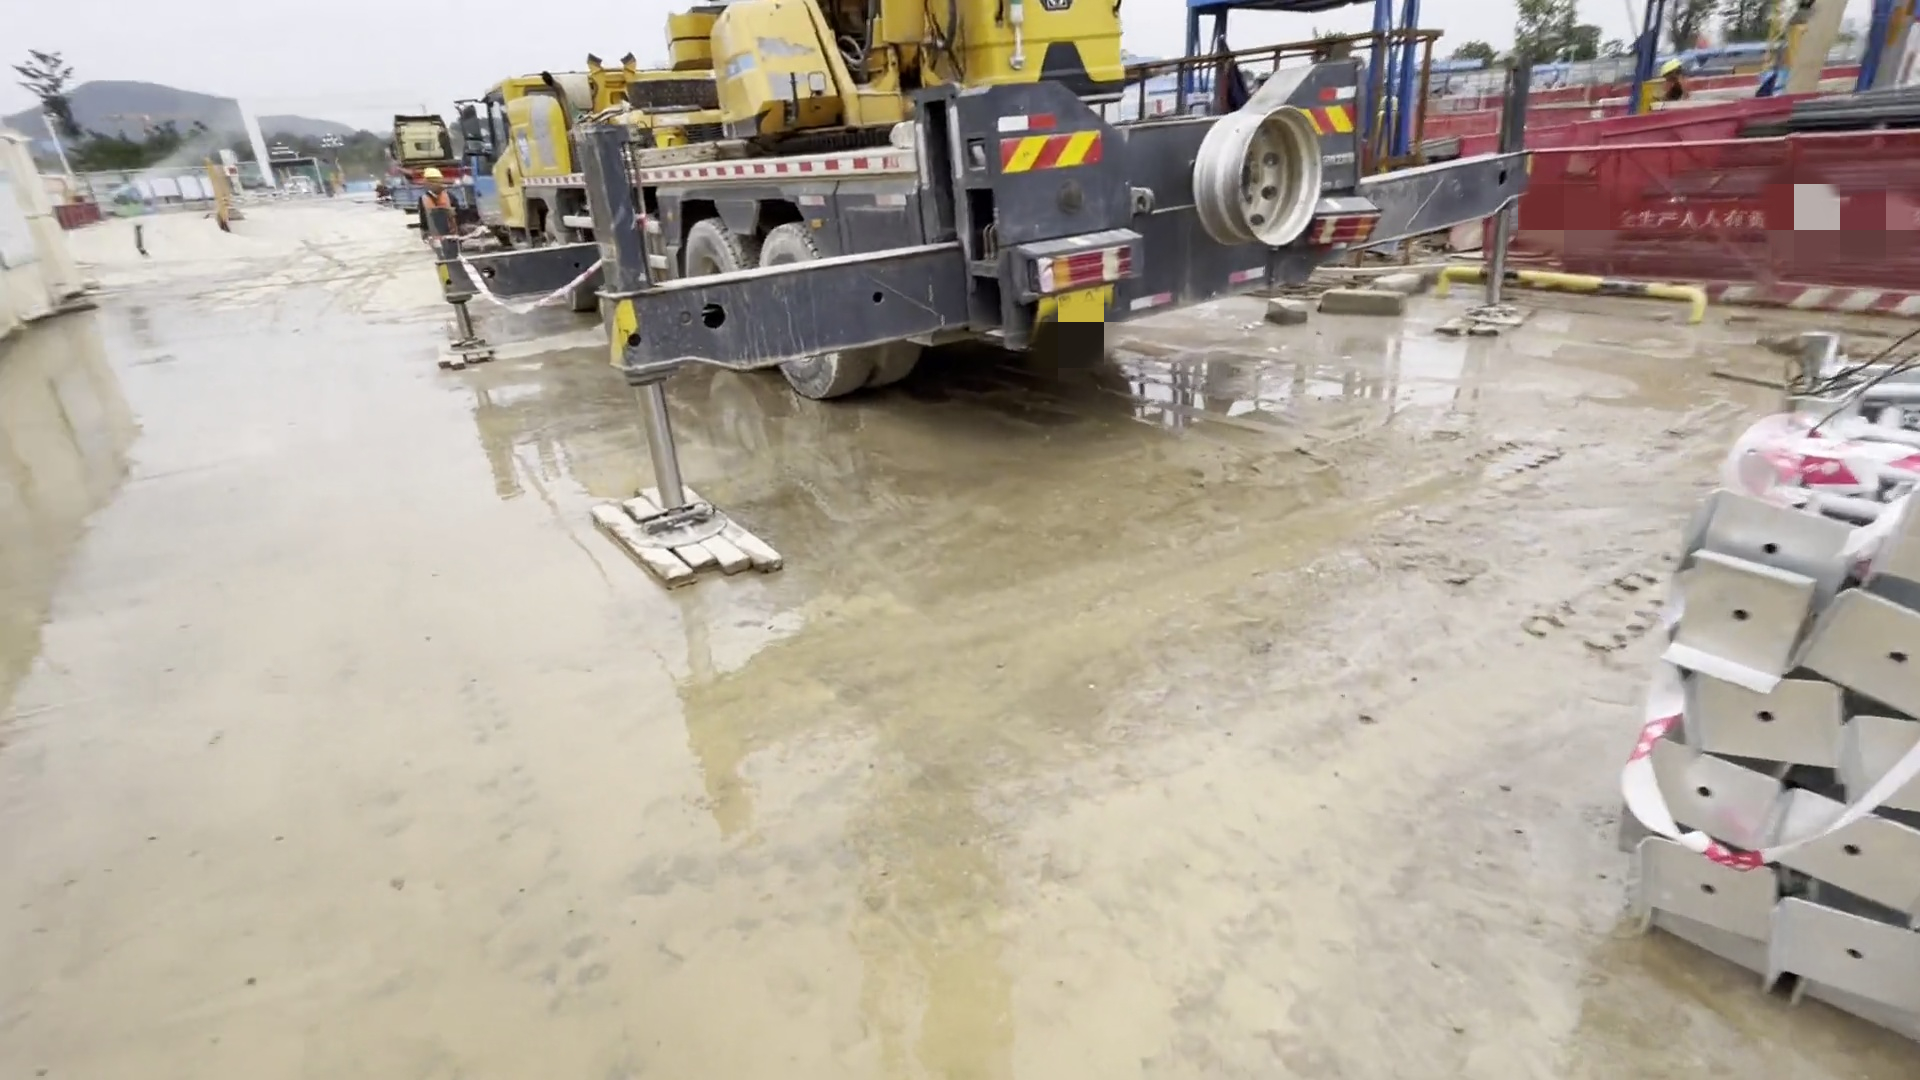fence: (1534, 138, 1899, 303)
